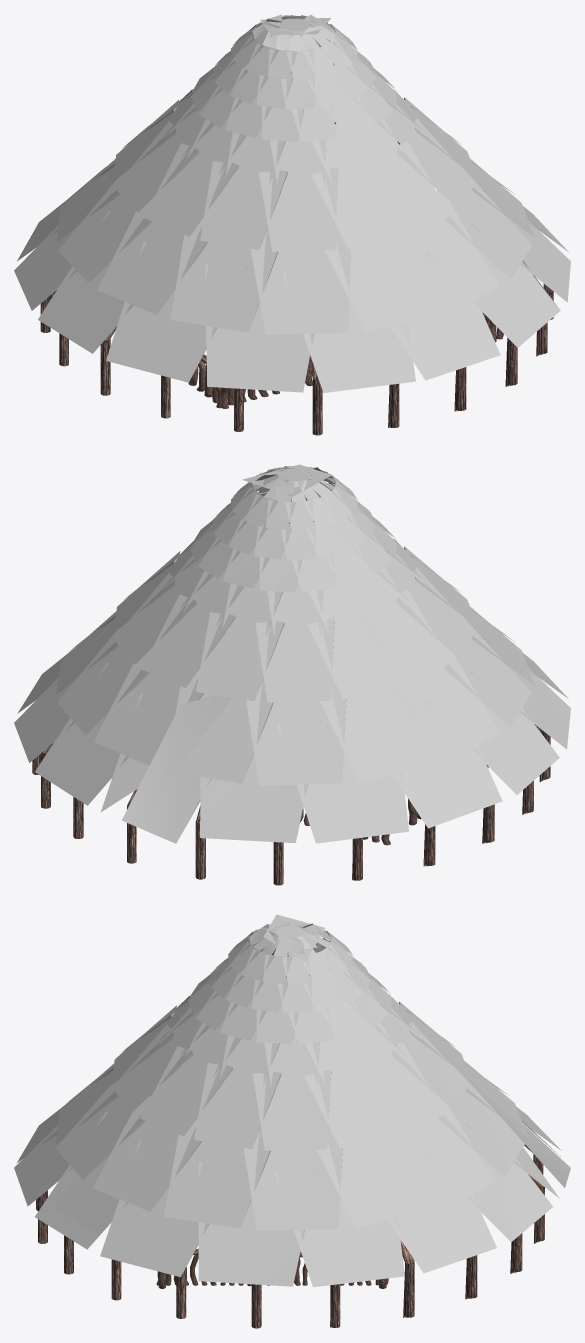
The model's file is oca_pequena.fbx.
3 views of the same model, one above another, from view 1: azimuth 30°, elevation 25°; view 2: azimuth 150°, elevation 25°; view 3: azimuth 270°, elevation 25° (orthographic). The views are drawn at different scales.
Parts seen in each view (by area): view 1: HUt.001, Cylinder.003, Cylinder; view 2: HUt.001, Cylinder.003; view 3: HUt.001, Cylinder.003, Cylinder.002.
Boxes of the visible parts, x1,y1,x2,y2 form: HUt.001: [14, 14, 570, 392]; Cylinder.003: [40, 63, 553, 435]; Cylinder: [188, 312, 503, 408]; HUt.001: [14, 464, 570, 843]; Cylinder.003: [32, 495, 550, 885]; HUt.001: [14, 914, 570, 1287]; Cylinder.003: [36, 948, 544, 1328]; Cylinder.002: [156, 1248, 388, 1286].
Size of the model in its own units: 1447 by 882 by 1497.
